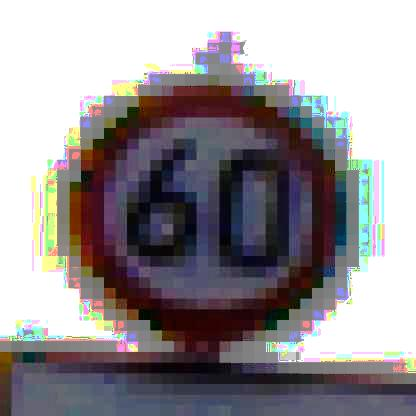Speed Limit -60-: (52, 69, 361, 342)
